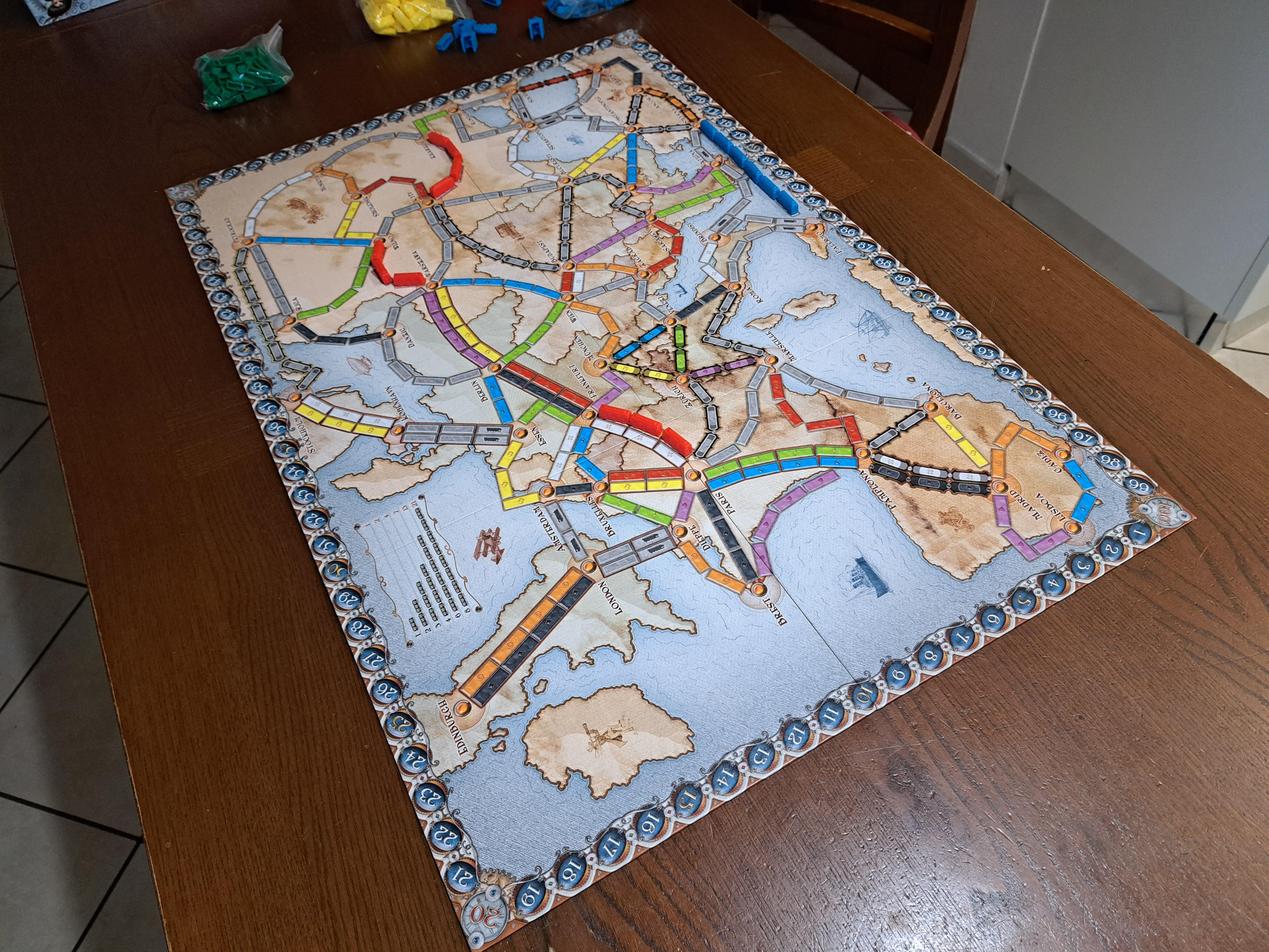corner_bl: (1133, 489, 1195, 536)
corner_br: (612, 28, 642, 47)
corner_tl: (452, 878, 520, 952)
corner_tr: (165, 181, 200, 205)
